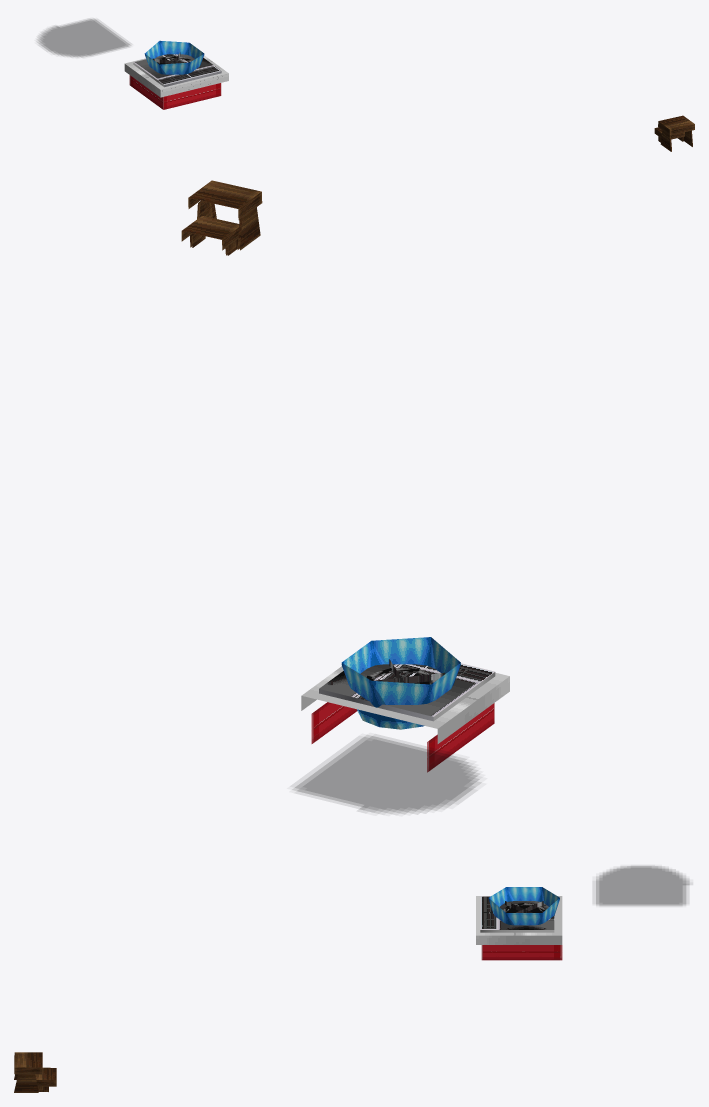
3 views of the same model, one above another, from view 1: azimuth 30°, elevation 25°; view 2: azimuth 150°, elevation 25°; view 3: azimuth 270°, elevation 25° (orthographic). The views are drawn at different scales.
Visible parts, largest first — view 1: uma_pan00; view 2: uma_pan00; view 3: uma_pan00.
Part boxes in pixels (x1,y1,x2,y2): uma_pan00: [37, 19, 694, 151]; uma_pan00: [181, 180, 509, 813]; uma_pan00: [14, 866, 689, 1092].
Size of what is drawn, in the model's own units: 5.39 by 0.6118 by 6.69.
Materials: 9 (9 with a texture image).
